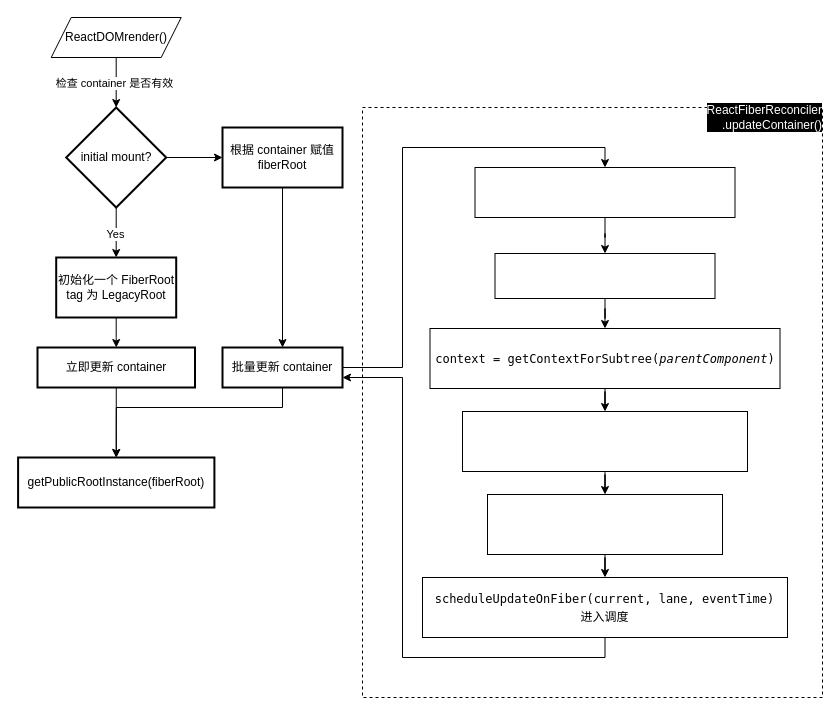
This 840x715 diagram has some shape labels left out. Each missing label, with the box of its shape:
enqueueUpdate ( current , update ): (486, 494, 722, 554)
markRenderScheduled ( lane ): (494, 252, 715, 298)
初始化 update 的参数: (462, 410, 748, 472)
根据 fiber 的 mode 等因素划分 lane: (474, 166, 735, 218)
